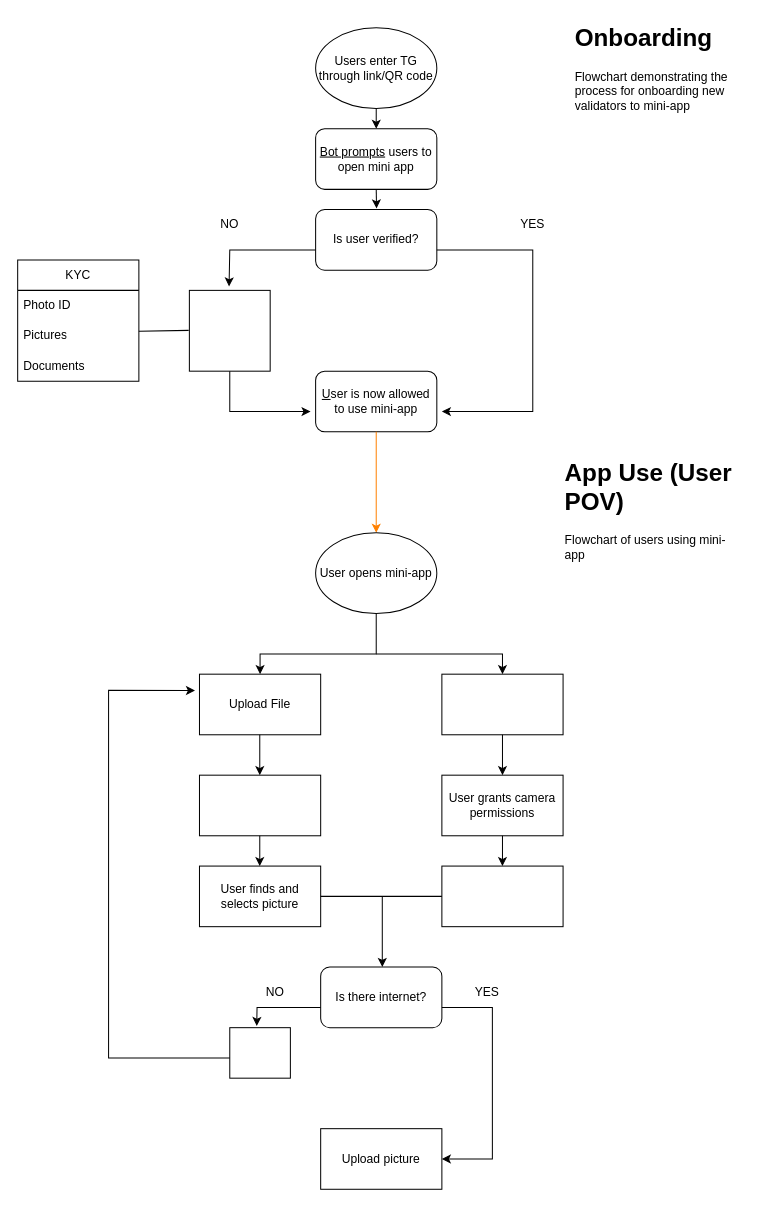
The diagram is 773 pixels wide and 1207 high, and some of its shapes have lost their labels. Here are the shapes that lost their labels. From the top down, the box of each, then its label:
(188, 289, 270, 371): mini app prompts users go through KYC + Wallet creation
(441, 673, 563, 735): Start Camera
(198, 774, 321, 836): User grants storage permissions
(441, 865, 563, 927): User snaps picture using front or rear facing camera
(229, 1027, 290, 1078): Save/keep picture on device
